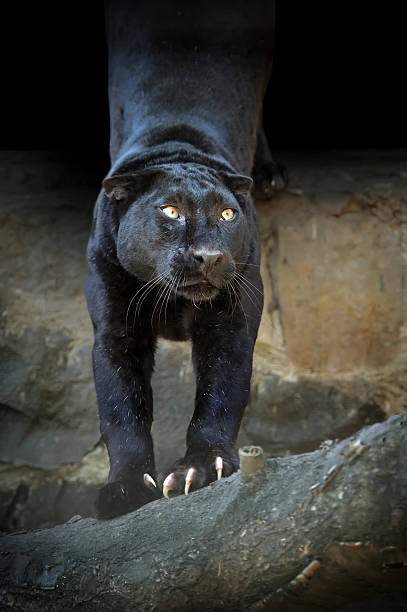panther: (99, 158, 262, 328)
